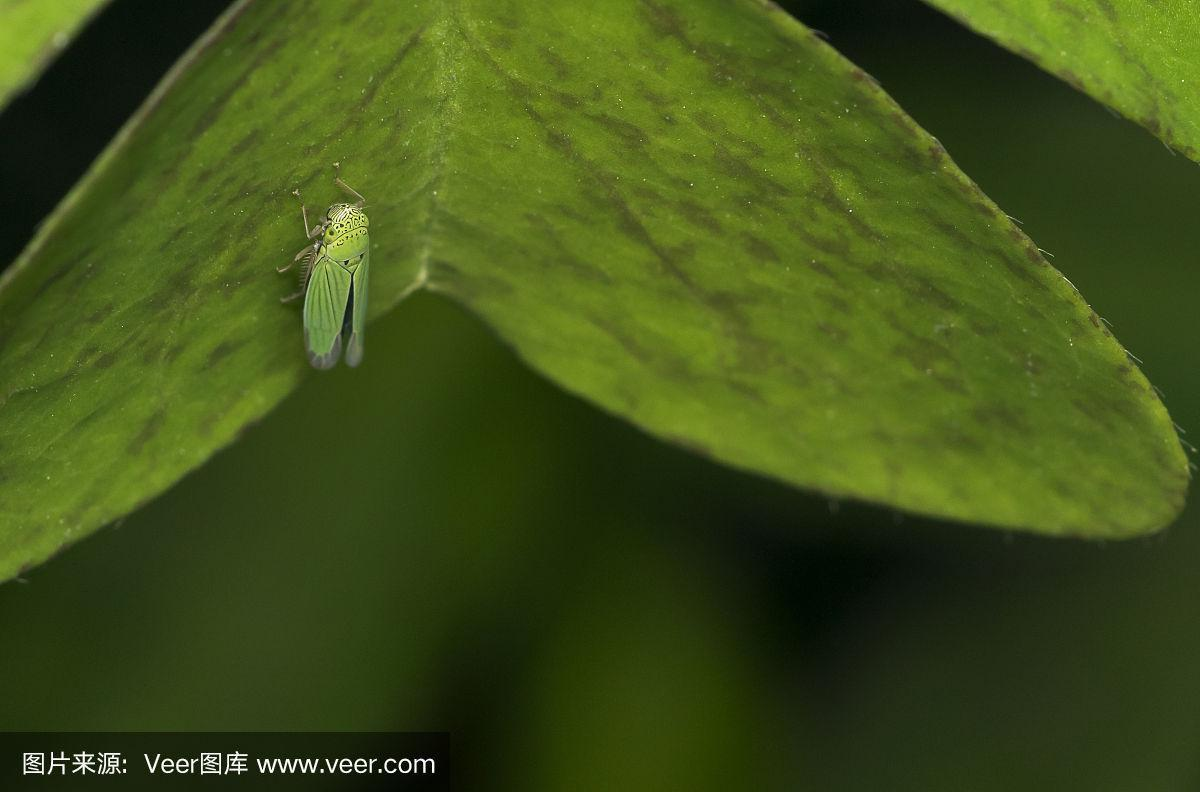Cicadellidae: (278, 177, 372, 371)
